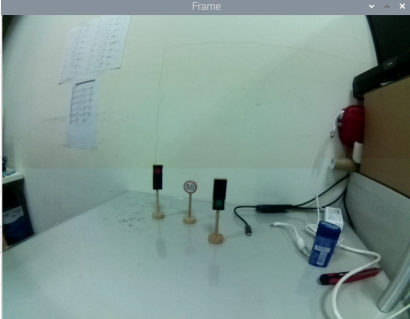Green: (207, 177, 231, 212)
Red: (150, 163, 165, 191)
Speed50: (183, 178, 198, 196)
